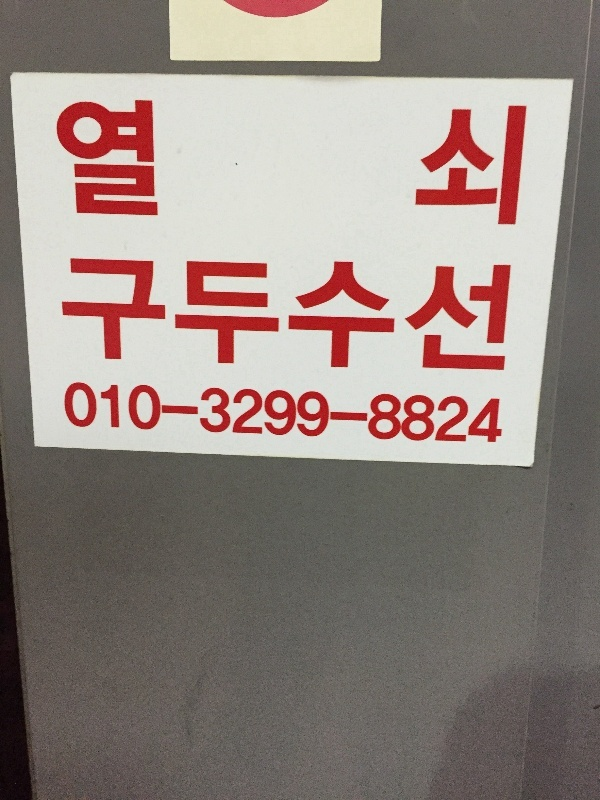text: (65, 101, 80, 228), (81, 101, 96, 228), (97, 101, 112, 228), (113, 101, 128, 228), (129, 101, 144, 228), (145, 101, 160, 228), (161, 101, 176, 228), (177, 101, 192, 228), (193, 101, 208, 228), (209, 101, 224, 228), (225, 101, 240, 228), (241, 101, 256, 228), (257, 101, 272, 228), (273, 101, 288, 228), (289, 101, 304, 228), (305, 101, 320, 228), (321, 101, 336, 228), (337, 101, 352, 228), (353, 101, 368, 228), (369, 101, 384, 228), (385, 101, 400, 228), (401, 101, 416, 228), (417, 101, 432, 228), (433, 101, 448, 228), (449, 101, 464, 228), (465, 101, 480, 228), (481, 101, 496, 228), (497, 101, 512, 228), (513, 101, 527, 228), (65, 256, 80, 370), (81, 256, 96, 370), (97, 256, 112, 370), (113, 256, 128, 370), (129, 256, 144, 370), (145, 256, 160, 370), (161, 256, 176, 370), (177, 256, 192, 370), (193, 256, 208, 370), (209, 256, 224, 370), (225, 256, 240, 370), (241, 256, 256, 370), (257, 256, 272, 370), (273, 256, 288, 370), (289, 256, 304, 370), (305, 256, 320, 370), (321, 256, 336, 370), (337, 256, 352, 370), (353, 256, 368, 370), (369, 256, 384, 370), (385, 256, 400, 370), (401, 256, 416, 370), (417, 256, 432, 370), (433, 256, 448, 370), (449, 256, 464, 370), (465, 256, 480, 370), (481, 256, 496, 370), (497, 256, 512, 370), (55, 101, 64, 228), (65, 383, 80, 444), (81, 383, 96, 444), (97, 383, 112, 444), (113, 383, 128, 444), (129, 383, 144, 444), (145, 383, 160, 444), (161, 383, 176, 444), (177, 383, 192, 444), (193, 383, 208, 444), (209, 383, 224, 444), (225, 383, 240, 444), (241, 383, 256, 444), (257, 383, 272, 444), (273, 383, 288, 444), (289, 383, 304, 444), (305, 383, 320, 444), (321, 383, 336, 444), (337, 383, 352, 444), (353, 383, 368, 444), (369, 383, 384, 444), (385, 383, 400, 444), (401, 383, 416, 444), (417, 383, 432, 444), (433, 383, 448, 444), (449, 383, 464, 444), (465, 383, 480, 444), (481, 383, 496, 444), (497, 383, 503, 444), (241, 4, 256, 19), (257, 4, 272, 19), (273, 4, 288, 19), (289, 4, 304, 19), (305, 4, 320, 19), (226, 4, 240, 19), (321, 4, 325, 19)
